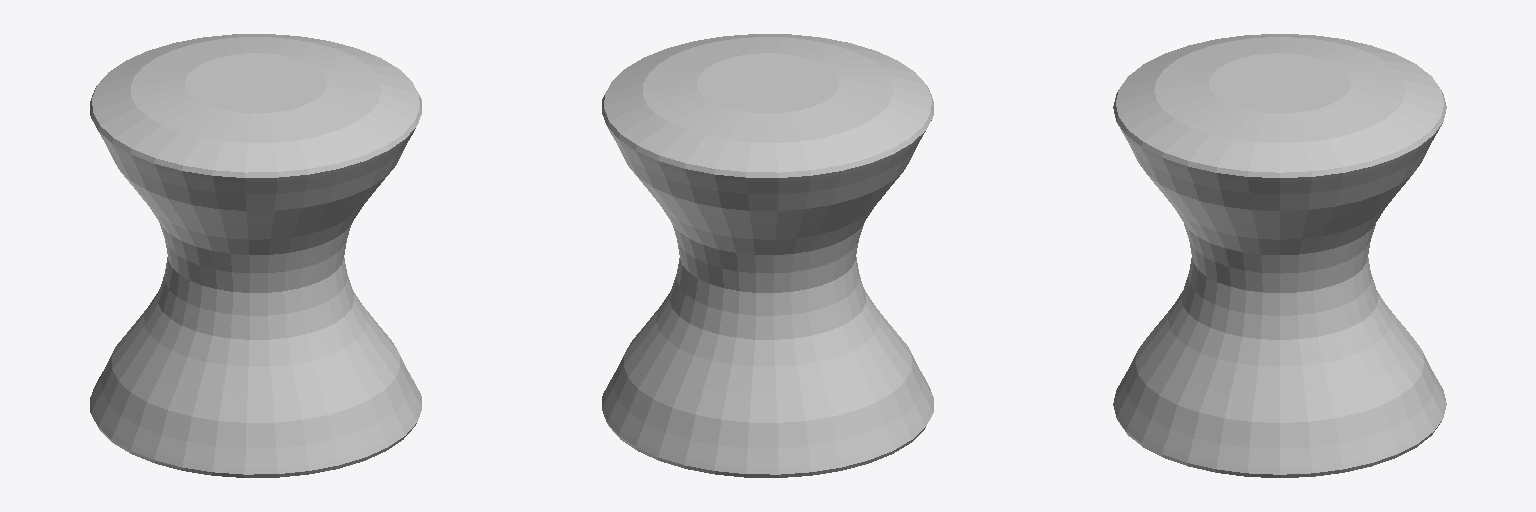
Rendered from art_dummy.obj.
3 renders of one model, left to right at view 1: azimuth 30°, elevation 25°; view 2: azimuth 150°, elevation 25°; view 3: azimuth 270°, elevation 25°, orthographic.
Visible parts, largest first — view 1: art_dummy_Cylinder; view 2: art_dummy_Cylinder; view 3: art_dummy_Cylinder.
Boxes of the visible parts, <box> form: art_dummy_Cylinder: <box>90,34,421,477</box>; art_dummy_Cylinder: <box>602,34,933,477</box>; art_dummy_Cylinder: <box>1113,34,1446,477</box>.
Bounding box in the file's own units: 3.44 × 3.93 × 3.44.